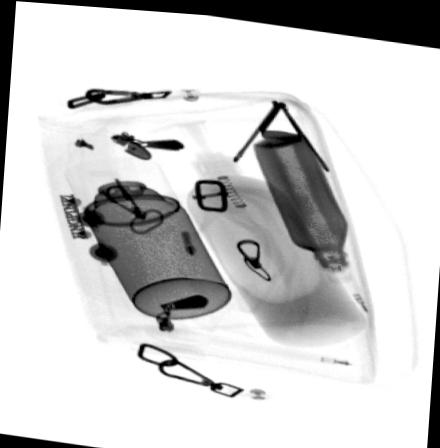Sprayer: (61, 150, 232, 317)
